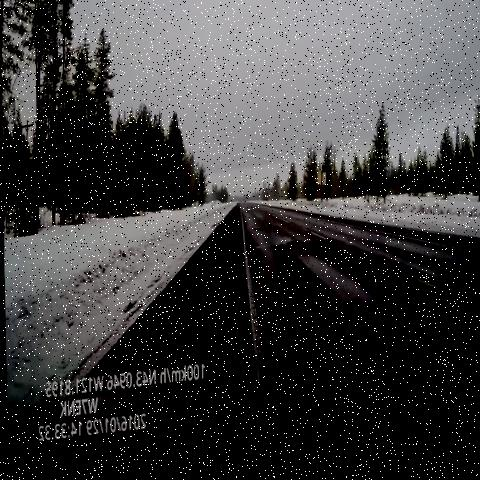pothole: (283, 237, 310, 265), (268, 220, 283, 241), (253, 227, 266, 246), (238, 207, 249, 226)
